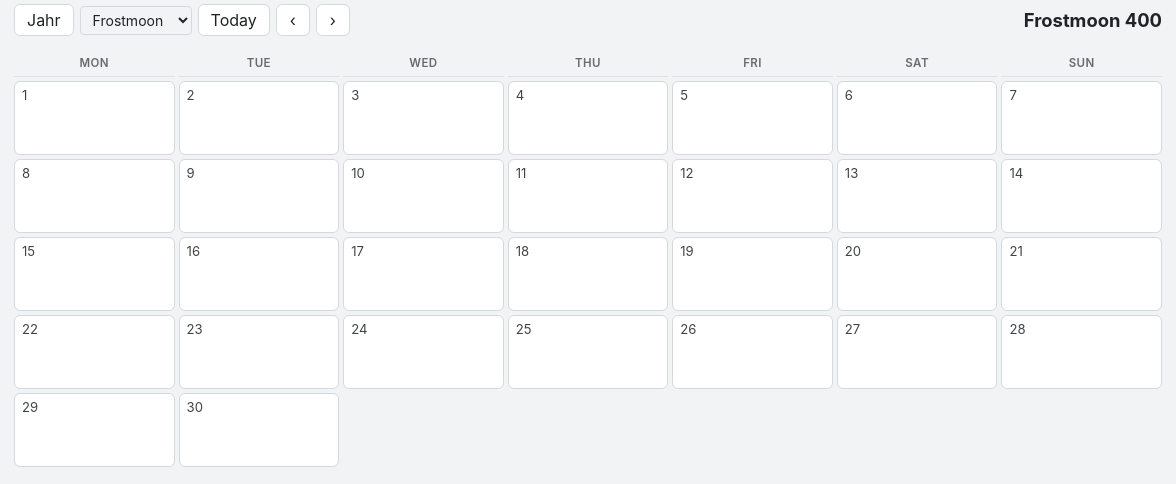
Test case: M14-S02 month dropdown & header order/layout › selecting a month sets viewMonthIdx, year unchanged › selecting month 3 (Suncrest) sets viewMonthIdx to 2 (0-based), year stays
Select "Suncrest" in the dropdown named "monat" at [136, 20], box [80,6,192,34]
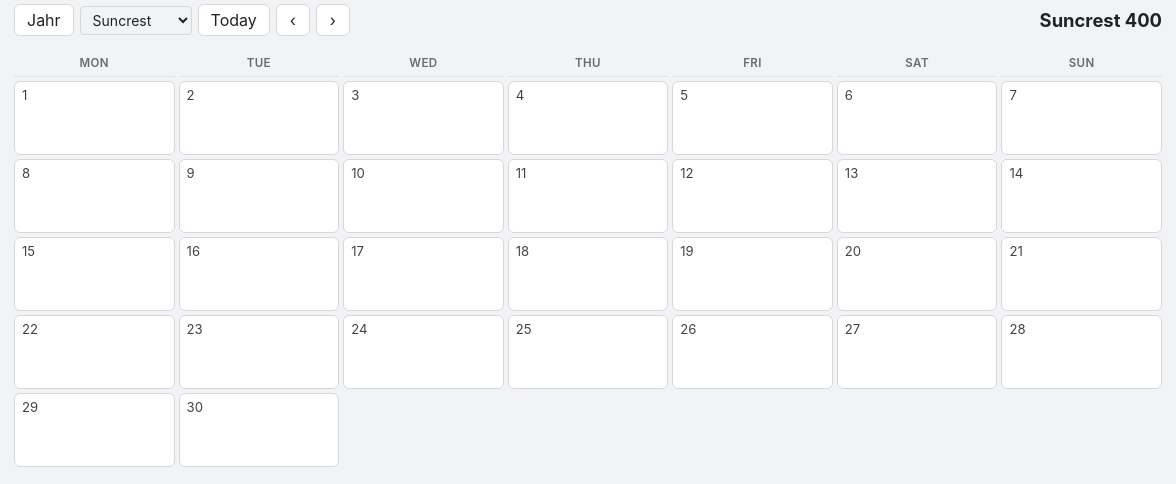
Expected: the heading reads "Suncrest 400", [1040,9,1162,31]
